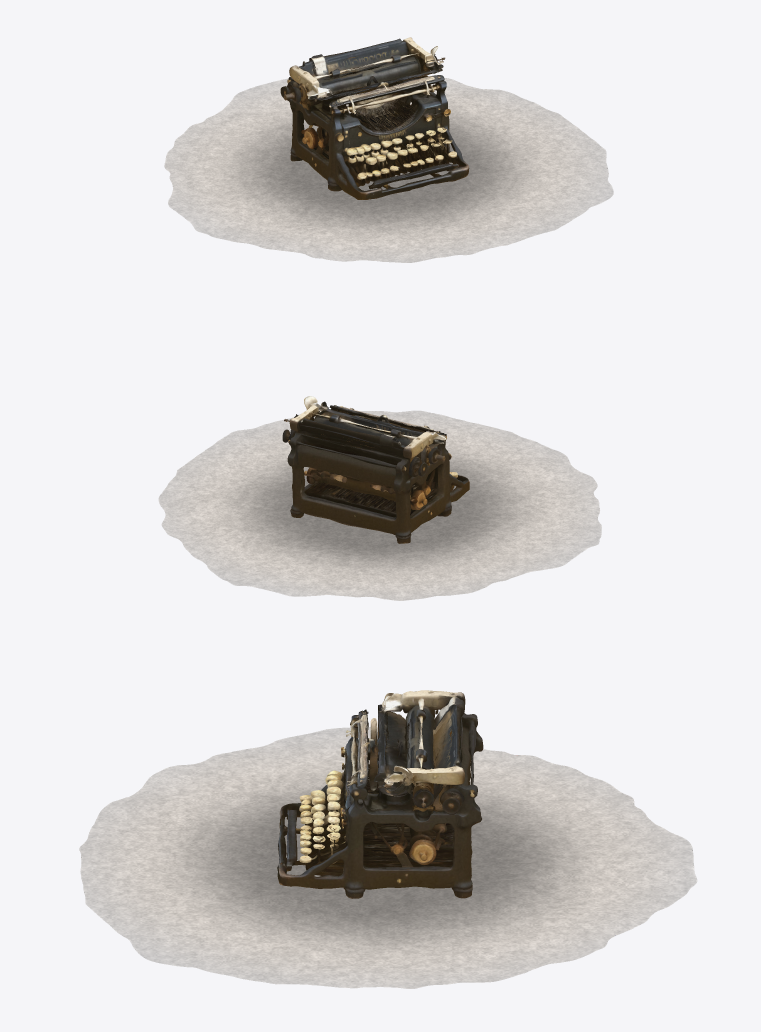
Rendered from maquina.glb.
3 views of the same model, one above another, from view 1: azimuth 30°, elevation 25°; view 2: azimuth 150°, elevation 25°; view 3: azimuth 270°, elevation 25° (orthographic). The views are drawn at different scales.
Parts seen in each view (by area): view 1: Terreno, Televisor; view 2: Terreno, Televisor; view 3: Terreno, Televisor.
Part boxes in pixels (x1,y1,x2,y2): Terreno: (164,78,613,262); Televisor: (280,37,469,199); Terreno: (158,409,601,600); Televisor: (282,396,469,543); Terreno: (79,727,697,988); Televisor: (277,690,483,898).
Size of the model in its own units: 2.97 by 0.6332 by 2.97.
2 materials, 2 textured.
